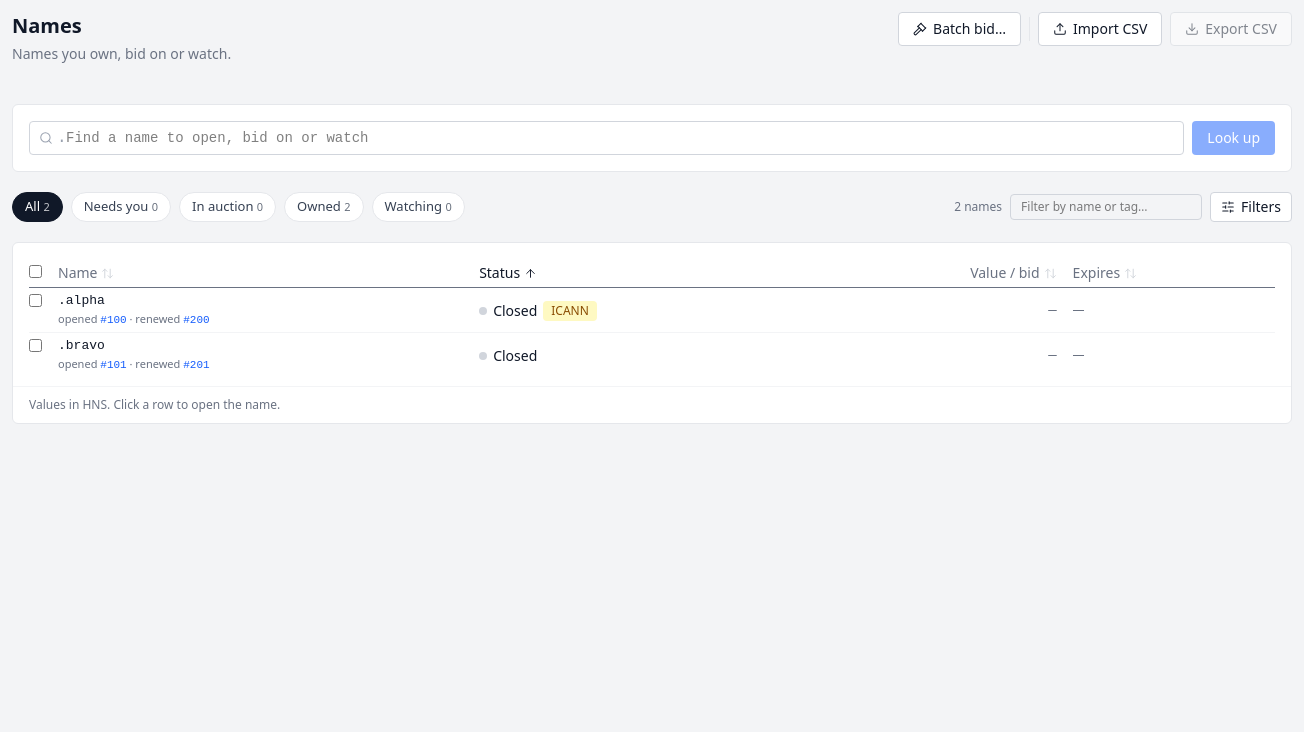
Scenario: NamesView — batch transfer › Transfer Selected is disabled when the recipient input is empty
The image size is (1304, 732).
expect the text ".alpha" is shown: met, box [58, 292, 105, 311]
expect the text ".bravo" is shown: met, box [58, 337, 105, 356]
Click the checkbox named "Select alpha". click: click(36, 300)
box: [29, 294, 42, 307]
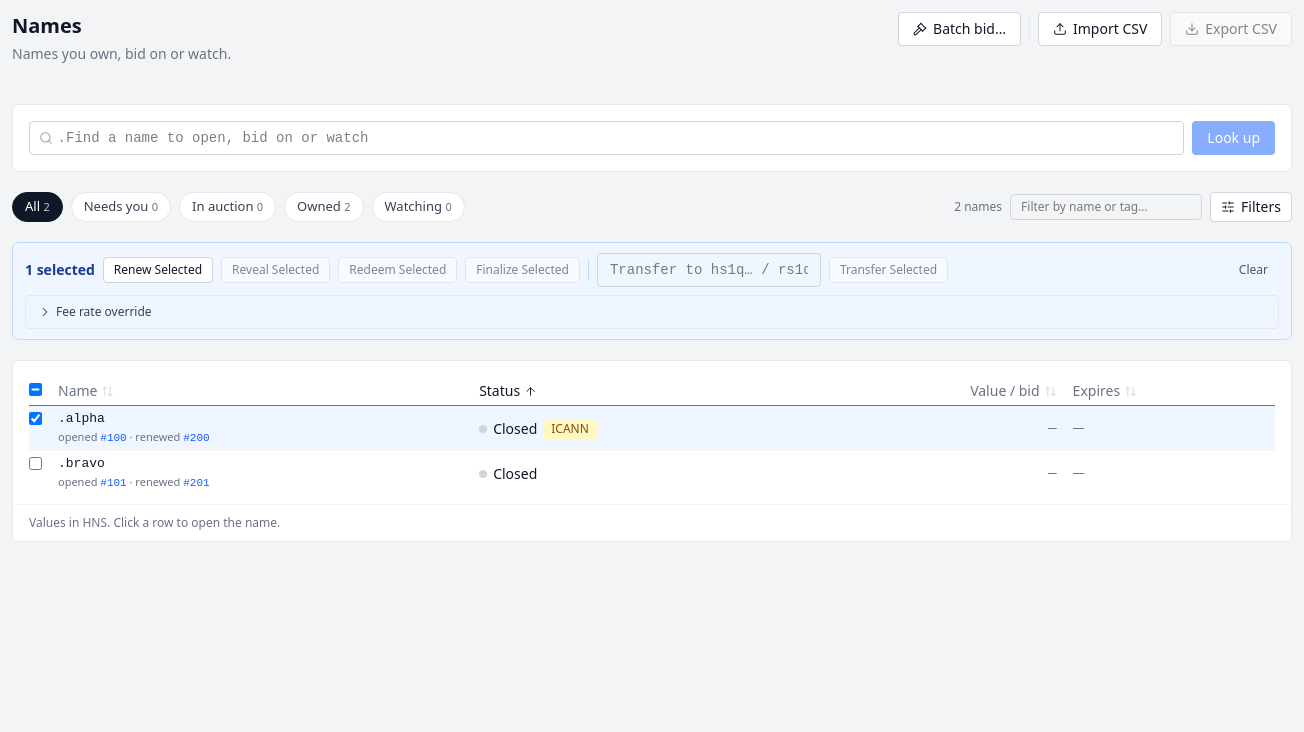
Click the checkbox named "Select bravo". click: click(36, 464)
box: [29, 457, 42, 470]
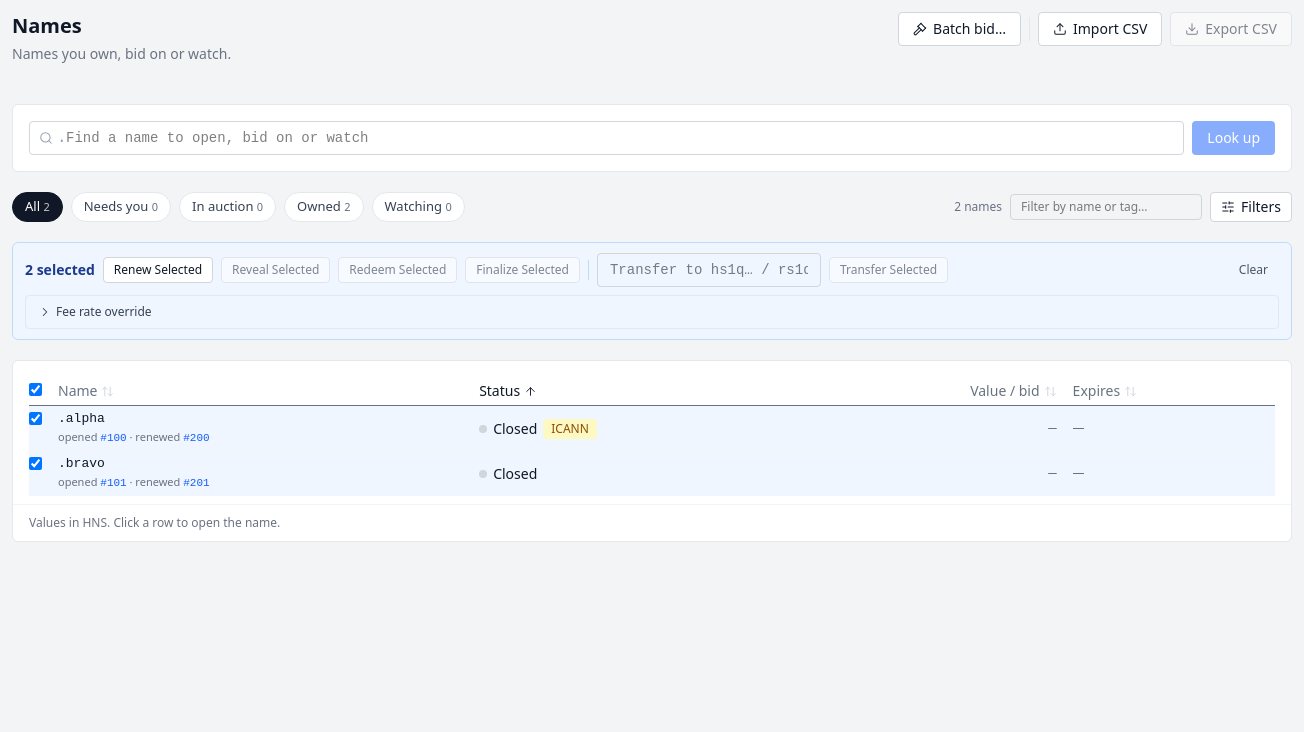
expect the button with test id "batch-transfer-btn" is disabled: met, box [829, 257, 948, 283]
Type "rs1qkc9l7ykllufaxa6yfq47krr5xlcunyqv3svqj2" into the field with test id "batch-transfer-recipient-input". click: (709, 270)
box: [597, 253, 821, 287]
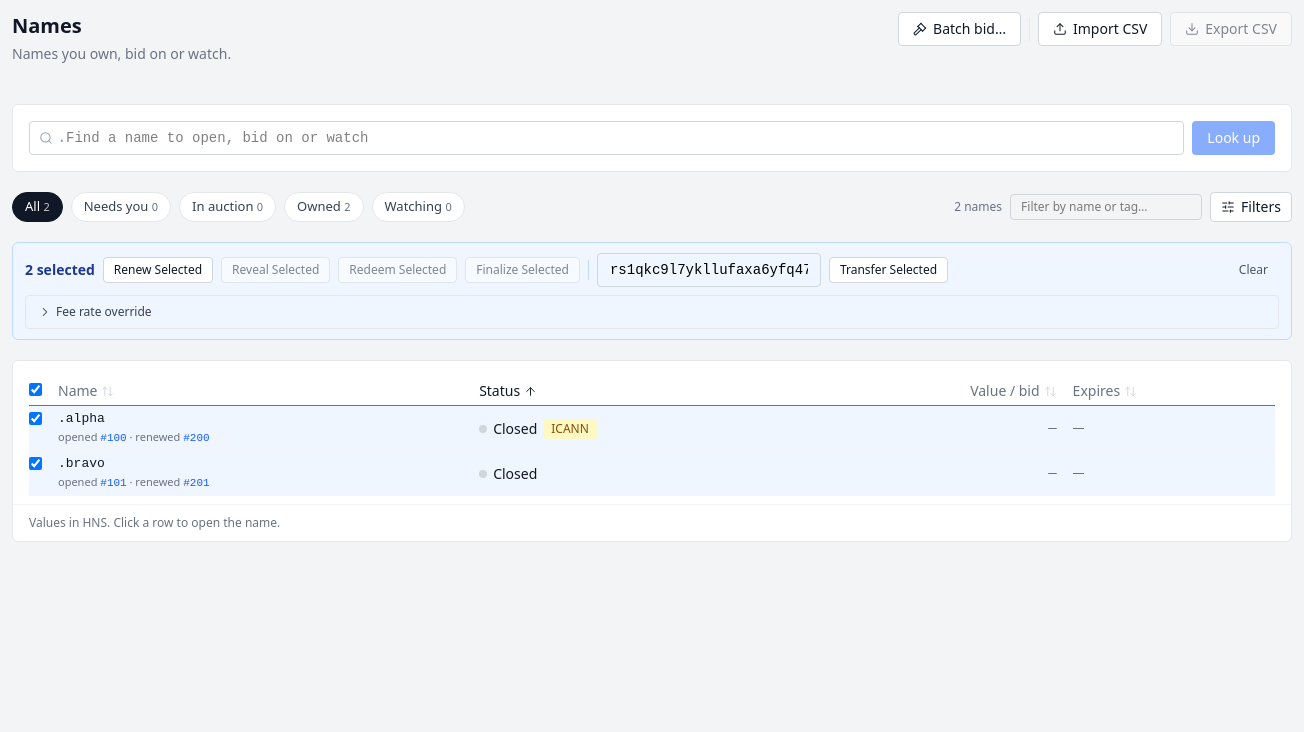
expect the button with test id "batch-transfer-btn" is enabled: met, box [829, 257, 948, 283]
